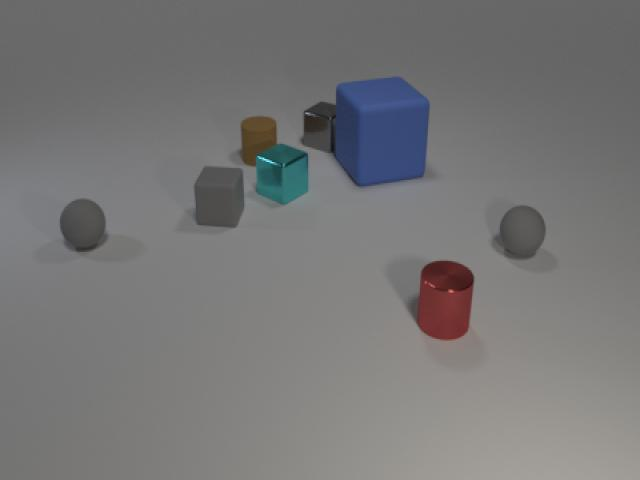cylinder: (413, 253, 481, 343), (234, 112, 283, 167)
round ball: (56, 193, 110, 257), (494, 201, 548, 261)
